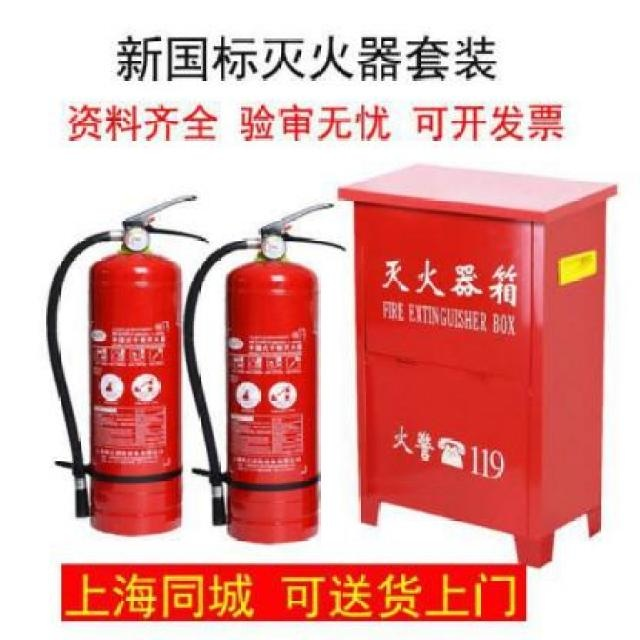fire extinguisher: (46, 193, 211, 538), (181, 202, 345, 544)
